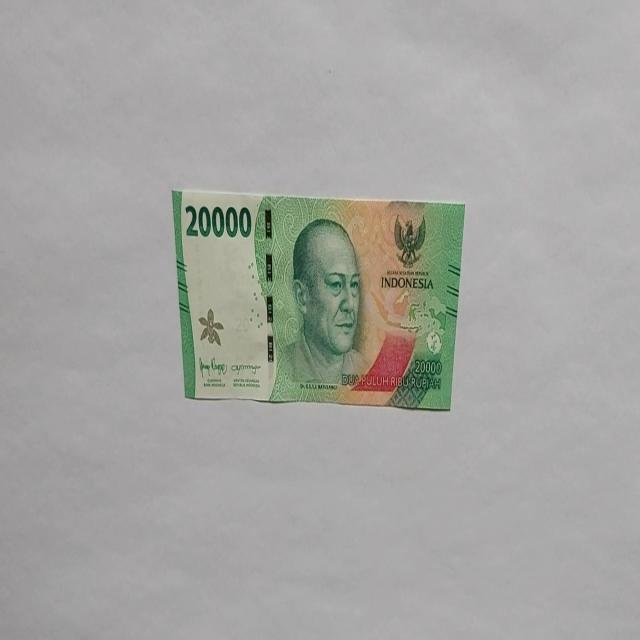dua puluh ribu rupiah: (171, 187, 467, 410), (270, 216, 372, 402)
